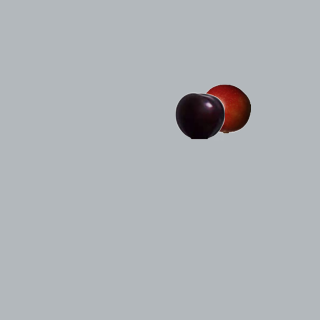Apple Braeburn: (200, 83, 250, 133)
Cherry Wax Black: (174, 90, 224, 140)
